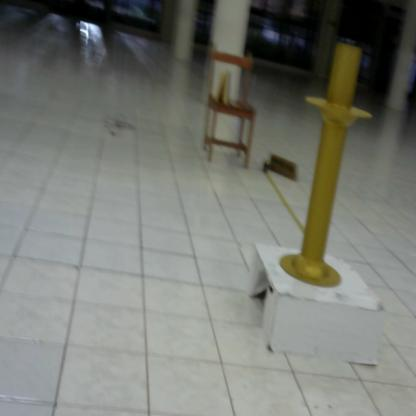pole: (279, 40, 381, 293)
